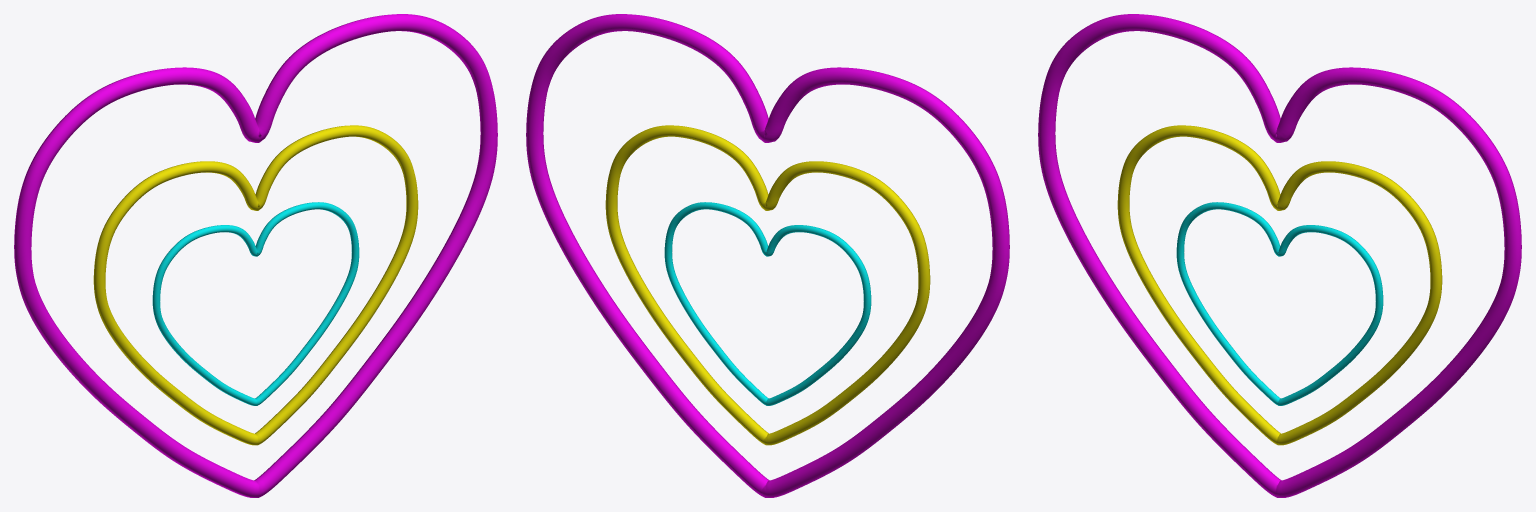
The model's file is Heart_NEON_sign.fbx.
The picture shows the model from 3 angles, left to right: view 1: azimuth 30°, elevation 25°; view 2: azimuth 150°, elevation 25°; view 3: azimuth 330°, elevation 25°; orthographic projection.
Parts seen in each view (by area): view 1: sweep12, sweep13, sweep14; view 2: sweep12, sweep13, sweep14; view 3: sweep12, sweep13, sweep14.
Part boxes in pixels (x1,y1,x2,y2): sweep12: (14, 14, 497, 497); sweep13: (93, 125, 418, 445); sweep14: (152, 202, 359, 405); sweep12: (526, 14, 1009, 497); sweep13: (605, 125, 930, 445); sweep14: (664, 202, 871, 405); sweep12: (1038, 14, 1521, 497); sweep13: (1117, 125, 1442, 445); sweep14: (1176, 202, 1383, 405).
Size of the model in its own units: 122 by 110 by 3.79.
